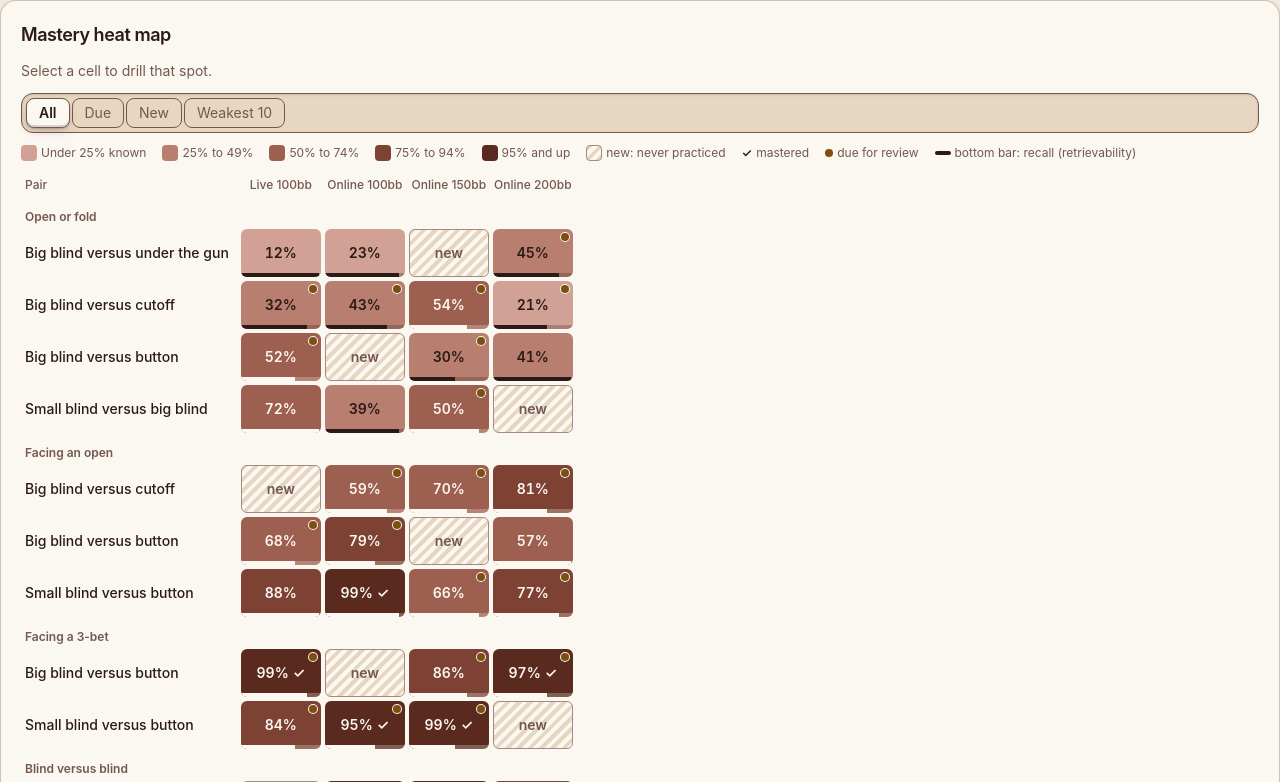
Test: R4.12 MasteryHeatMap › R4.12 the tooltip shows on focus and hover; a click opens the cell's drill
Later steps or results of the test are not shown.
Focus the button named "Open or fold, big blind versus under the gun, live 100bb:" at (281, 253), box 241,229 -> 321,277
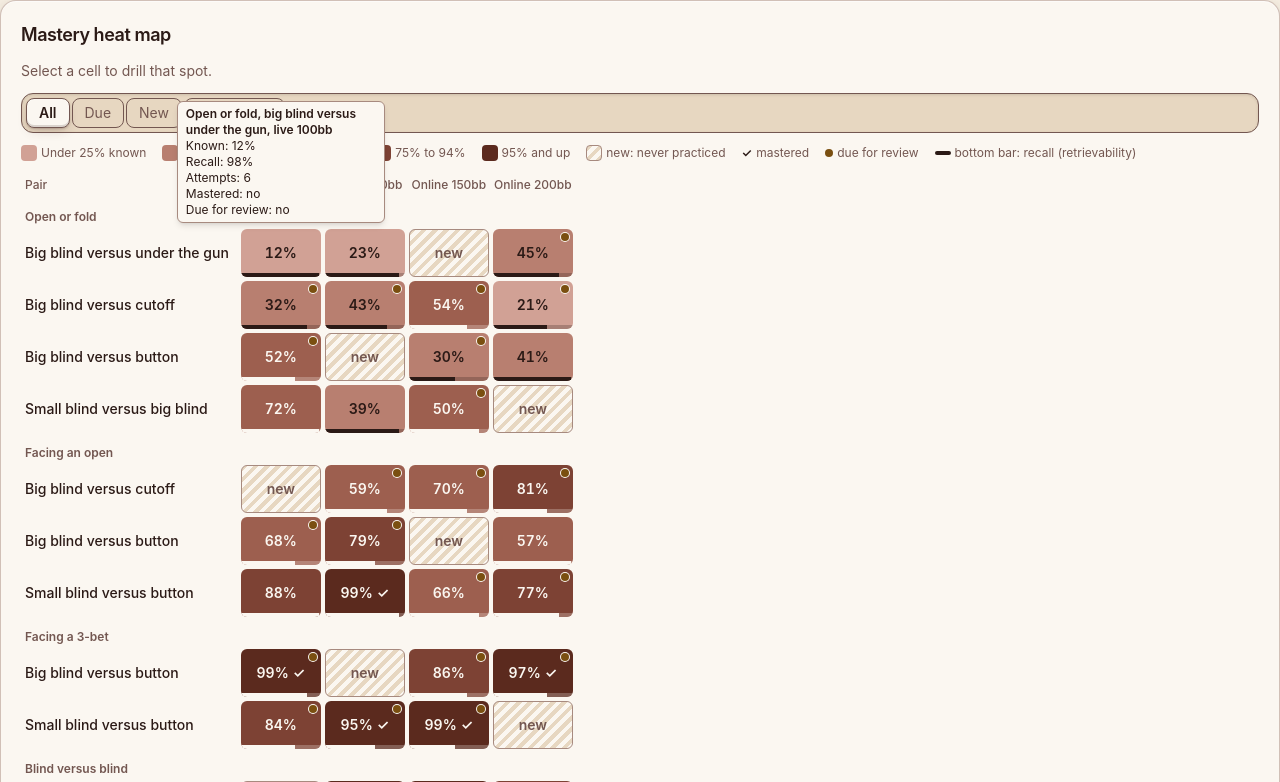
Leave the button named "Open or fold, big blind versus under the gun, live 100bb:", box 241,229 -> 321,277
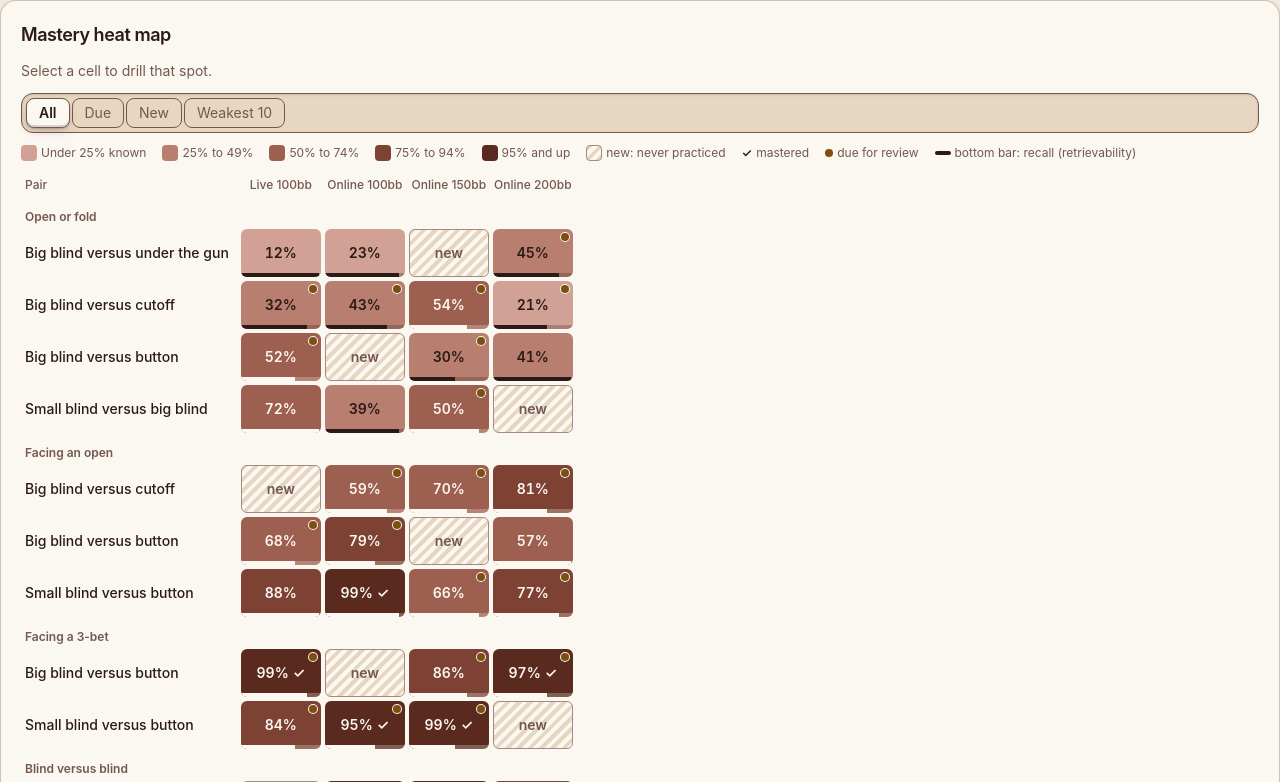
Check: the tooltip "Open or fold, big blind versus under the gun, live 100bb Known: 12% Recall: 98%" is gone
Hover over the button named "Open or fold, big blind versus under the gun, live 100bb:" at (281, 253), box 241,229 -> 321,277
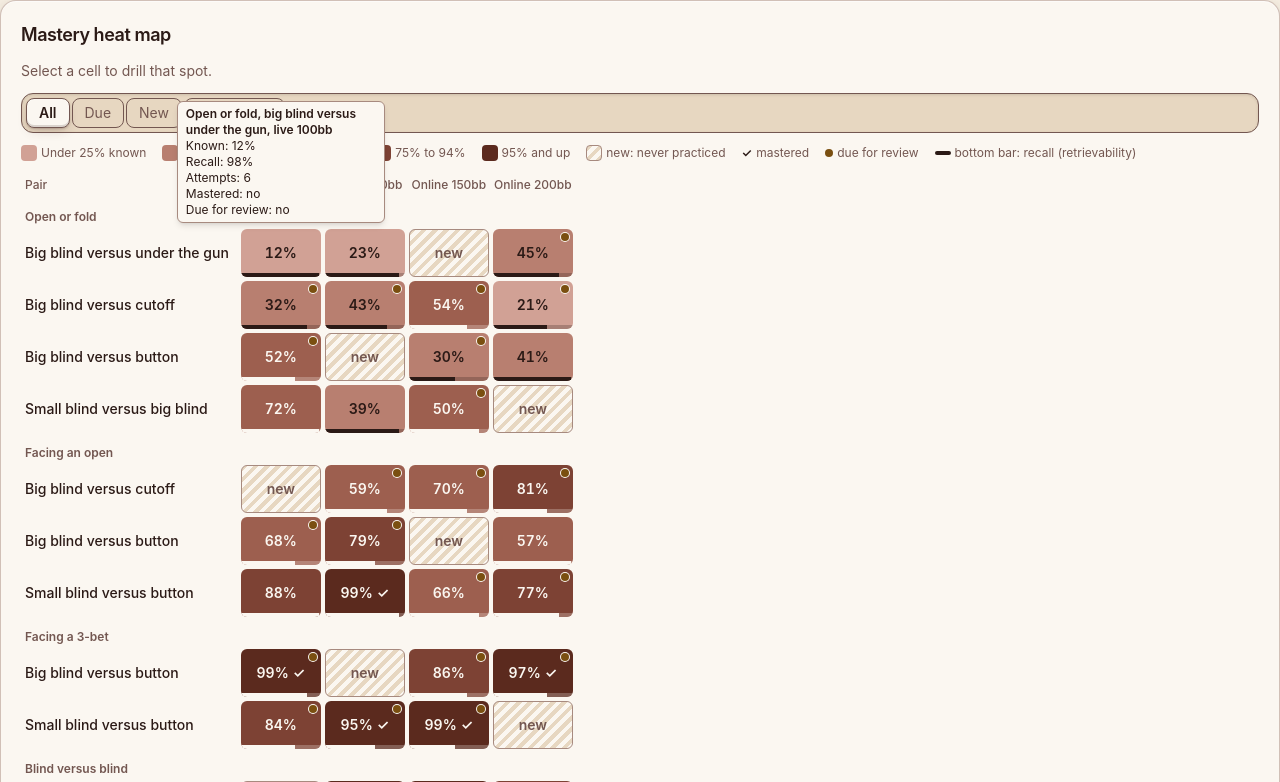
Check: the tooltip is shown, box 177,101 -> 385,223
